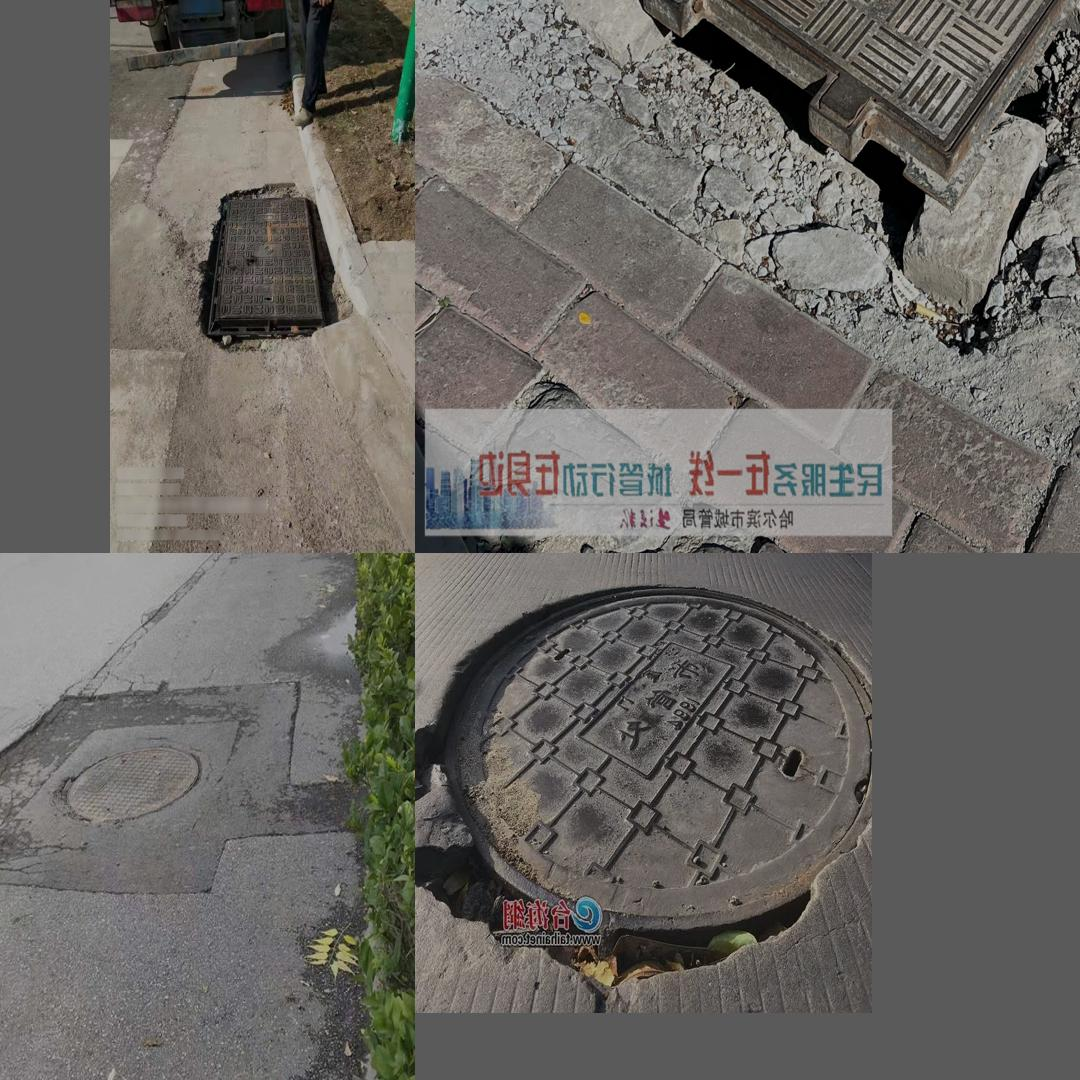circle: (469, 0, 1080, 350), (424, 582, 860, 992), (0, 704, 289, 887), (198, 189, 340, 347)
